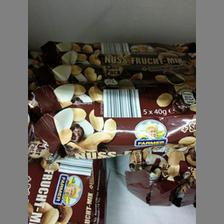Nuss: (38, 37, 194, 157)
